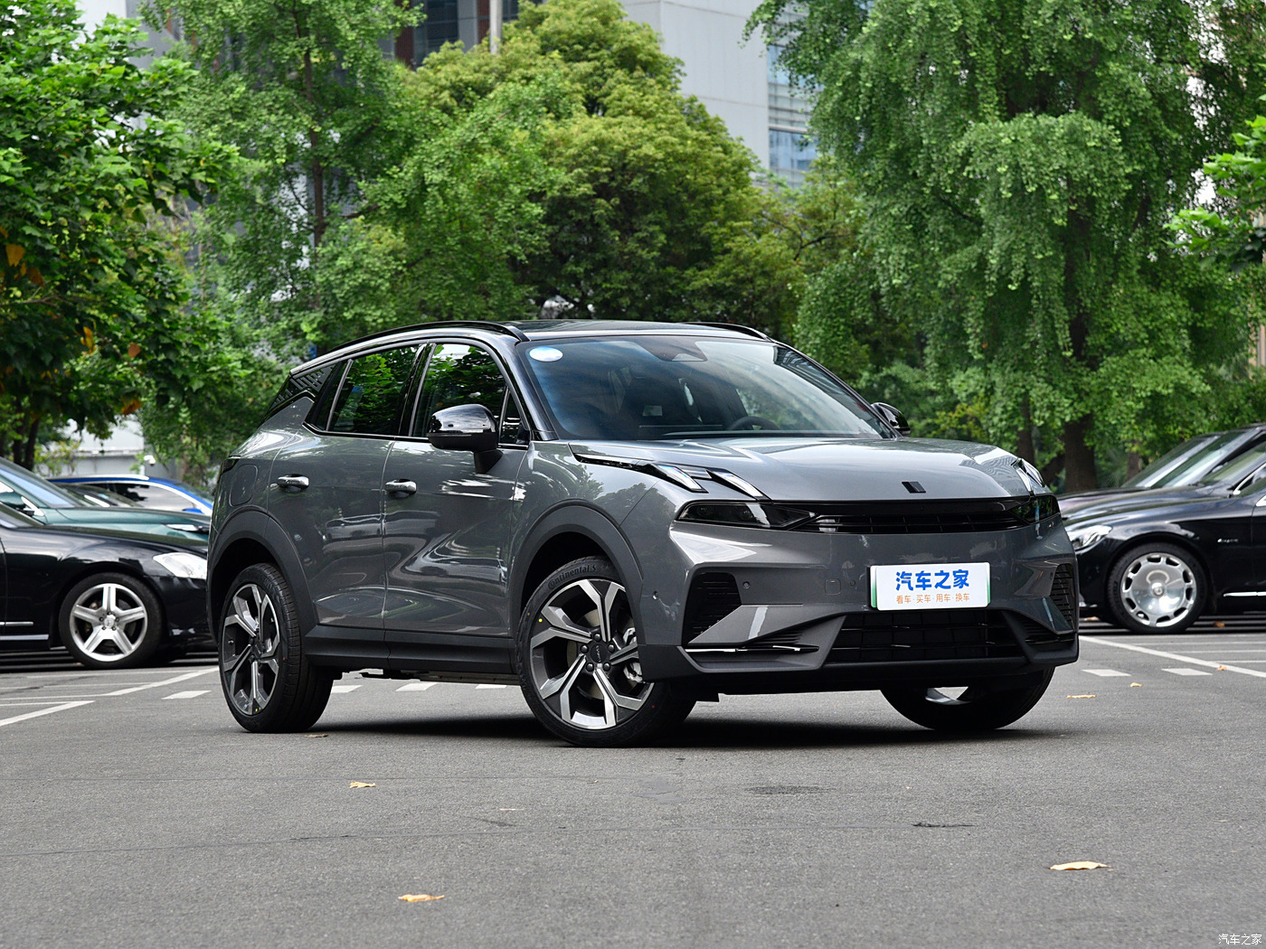LINK&CO: (902, 481, 926, 493)
